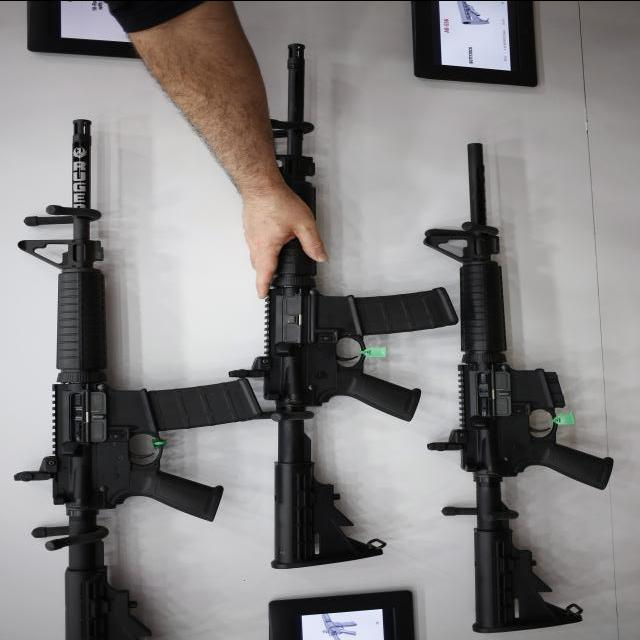rifle: (16, 108, 239, 640), (251, 19, 445, 576), (446, 130, 613, 633)
